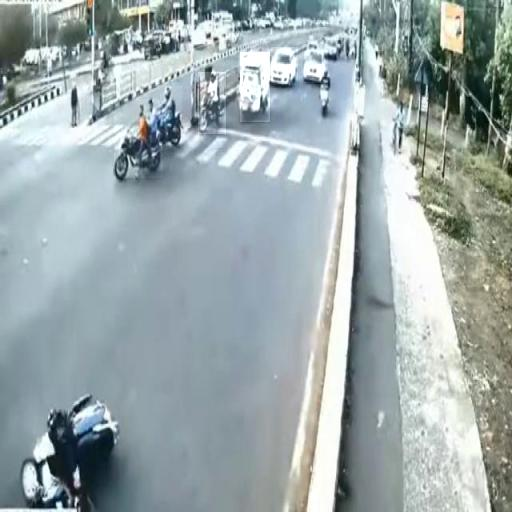小汽车: (240, 52, 270, 122), (271, 47, 298, 85), (304, 50, 328, 83)
自行车: (114, 99, 163, 178), (198, 72, 226, 134), (160, 86, 182, 146)
